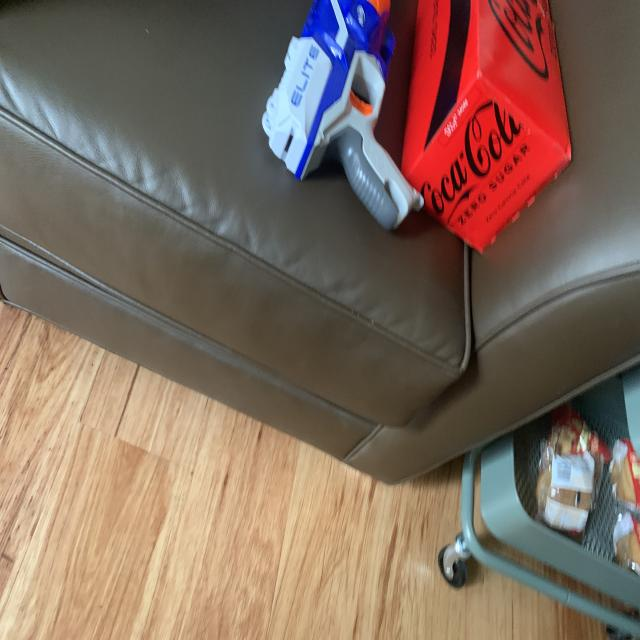nerf-maverik: (256, 0, 434, 251)
